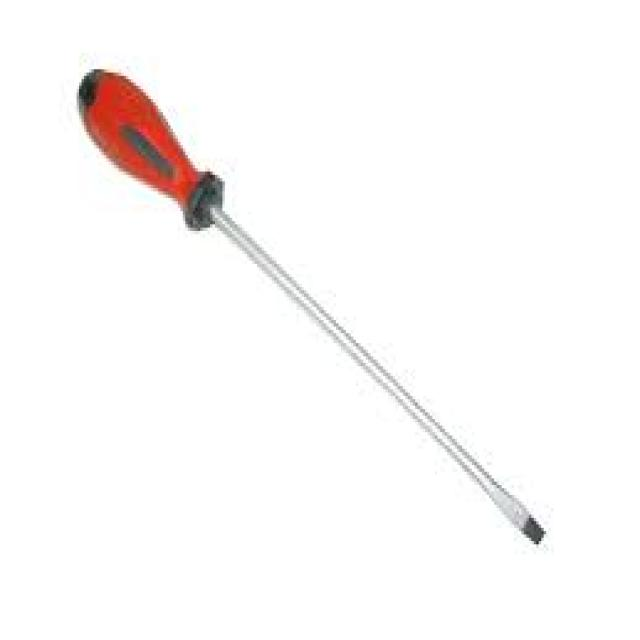Screwdriver: (81, 70, 545, 543)
